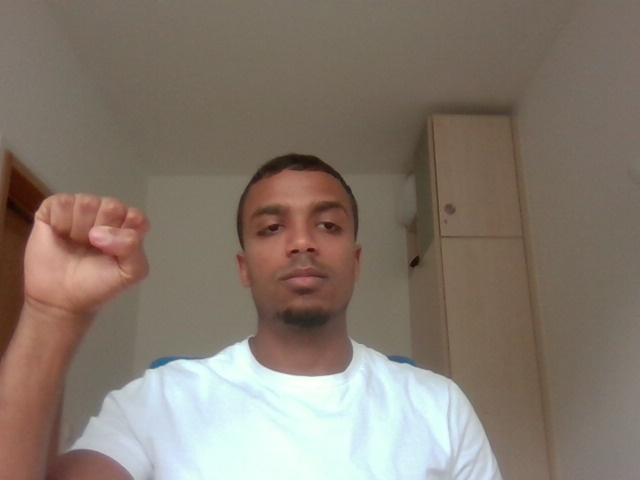neutral: (19, 166, 159, 326)
